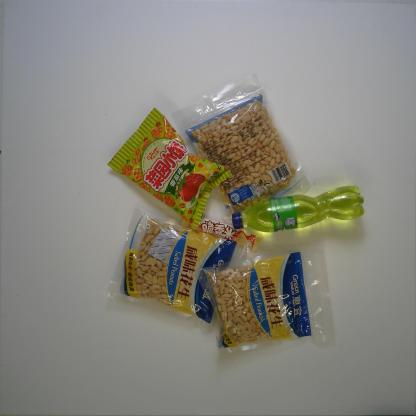Chocolate: (179, 214, 263, 253)
Dried Fruit: (168, 70, 312, 230), (104, 205, 248, 329), (196, 240, 336, 355)
Drink: (231, 184, 366, 233)
Puffed Food: (106, 106, 233, 228)
